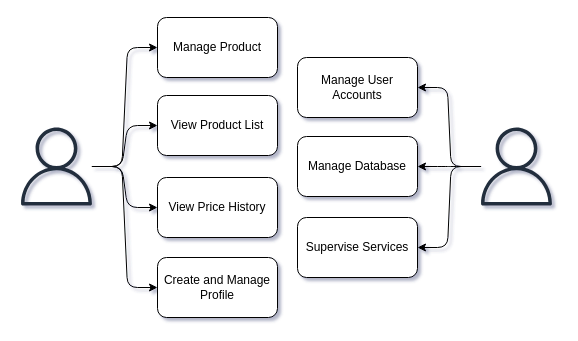
Some shapes in this 578 by 341 pixel diagram are drawn without their labels. Here are the shapes that lost their labels. From the top down, the centre of each, then its label:
point (56, 166): User
point (516, 166): Admin
